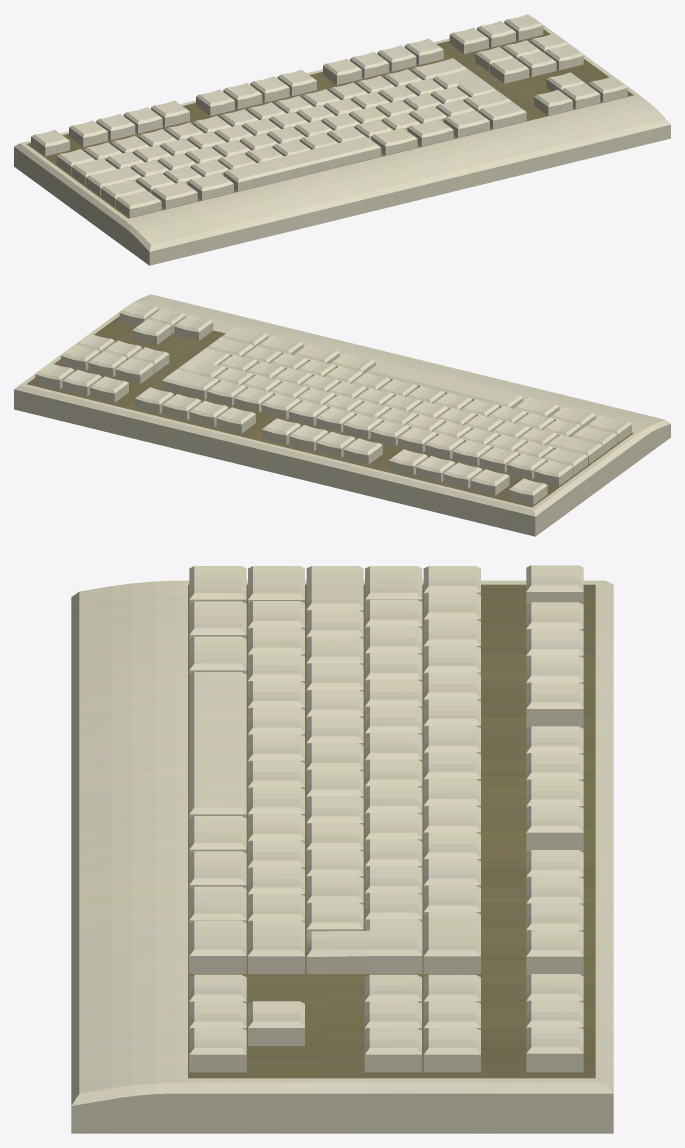
The model's file is Keyboard.glb.
3 renders of one model, top to bottom at view 1: azimuth 30°, elevation 25°; view 2: azimuth 150°, elevation 25°; view 3: azimuth 270°, elevation 25°, orthographic. The views are drawn at different scales.
Parts seen in each view (by area): view 1: Keys, Board, Key Space, Key Enter, Key Tab, KeyD, Key I, Key Plus; view 2: Keys, Board, Key Space, Key Enter, Key Plus, Key Tab, KeyD, Key I; view 3: Keys, Board, Key Space, Key Enter, Key Tab, Key Plus, KeyD, Key I.
Part boxes in pixels (x1=…): Keys: x1=31, y1=14, x2=627, y2=217; Board: x1=14, y1=18, x2=670, y2=265; Key Space: x1=223, y1=136, x2=381, y2=191; Key Enter: x1=433, y1=69, x2=495, y2=96; Key Tab: x1=71, y1=158, x2=116, y2=185; KeyD: x1=185, y1=146, x2=223, y2=163; Key I: x1=296, y1=104, x2=335, y2=122; Key Plus: x1=384, y1=69, x2=422, y2=86; Keys: x1=35, y1=302, x2=631, y2=504; Board: x1=14, y1=294, x2=670, y2=536; Key Space: x1=366, y1=361, x2=523, y2=408; Key Enter: x1=177, y1=348, x2=230, y2=378; Key Plus: x1=207, y1=380, x2=246, y2=406; Key Tab: x1=543, y1=447, x2=587, y2=475; KeyD: x1=465, y1=414, x2=503, y2=431; Key I: x1=325, y1=394, x2=362, y2=411; Keys: x1=189, y1=565, x2=583, y2=1072; Board: x1=71, y1=580, x2=613, y2=1133; Key Space: x1=189, y1=672, x2=246, y2=818; Key Enter: x1=306, y1=919, x2=422, y2=973; Key Tab: x1=365, y1=566, x2=422, y2=601; Key Plus: x1=423, y1=885, x2=480, y2=914; KeyD: x1=306, y1=663, x2=363, y2=691; Key I: x1=365, y1=786, x2=422, y2=814.
Bounding box in the file's own units: 8.22 × 0.5344 × 3.7.
Materials: 1 (1 with a texture image).
